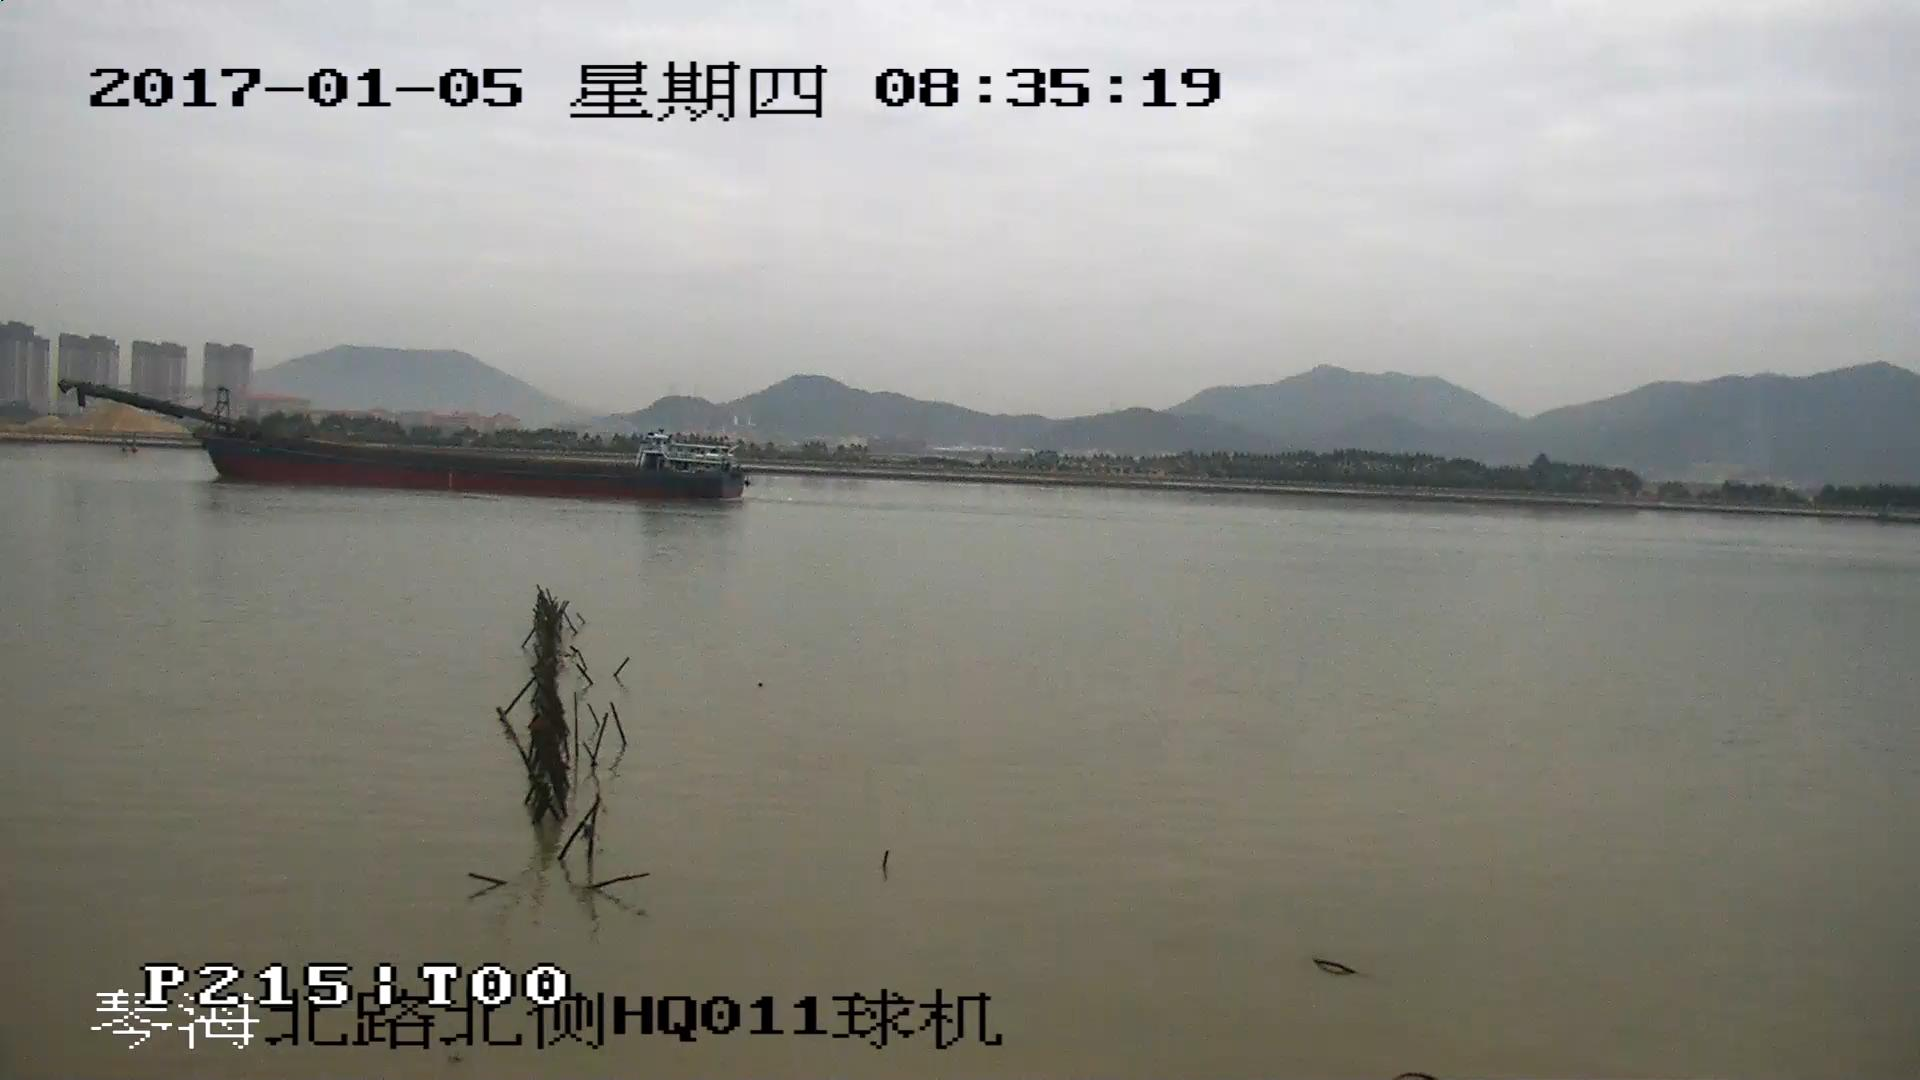bulk cargo carrier: (59, 380, 748, 502)
